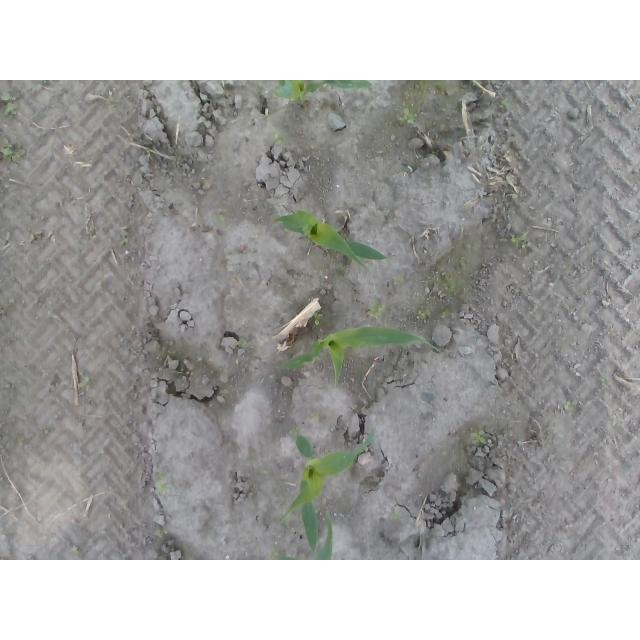Maize: (278, 430, 379, 554), (276, 326, 442, 390), (270, 210, 390, 271), (274, 512, 335, 561), (271, 81, 376, 106)
Weeds: (1, 139, 24, 165), (508, 231, 534, 252), (148, 470, 168, 494), (1, 95, 19, 118), (369, 300, 387, 321), (397, 108, 415, 125), (268, 131, 282, 148), (77, 372, 91, 388), (471, 431, 485, 446), (388, 507, 401, 521), (152, 529, 169, 539), (565, 400, 579, 412), (210, 212, 224, 224), (116, 232, 128, 246), (601, 374, 612, 388), (314, 312, 324, 327), (392, 275, 404, 286), (416, 312, 430, 321), (234, 339, 246, 349), (500, 99, 510, 110), (310, 412, 319, 423)
